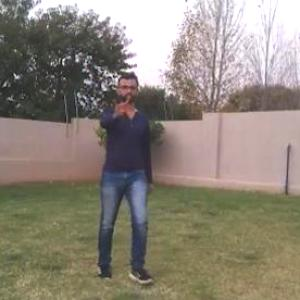takeoff-hand: (103, 87, 132, 123)
